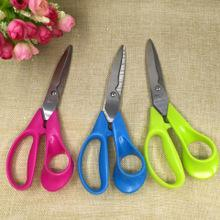scissor: (145, 38, 220, 191), (4, 45, 75, 192), (77, 45, 146, 194)
